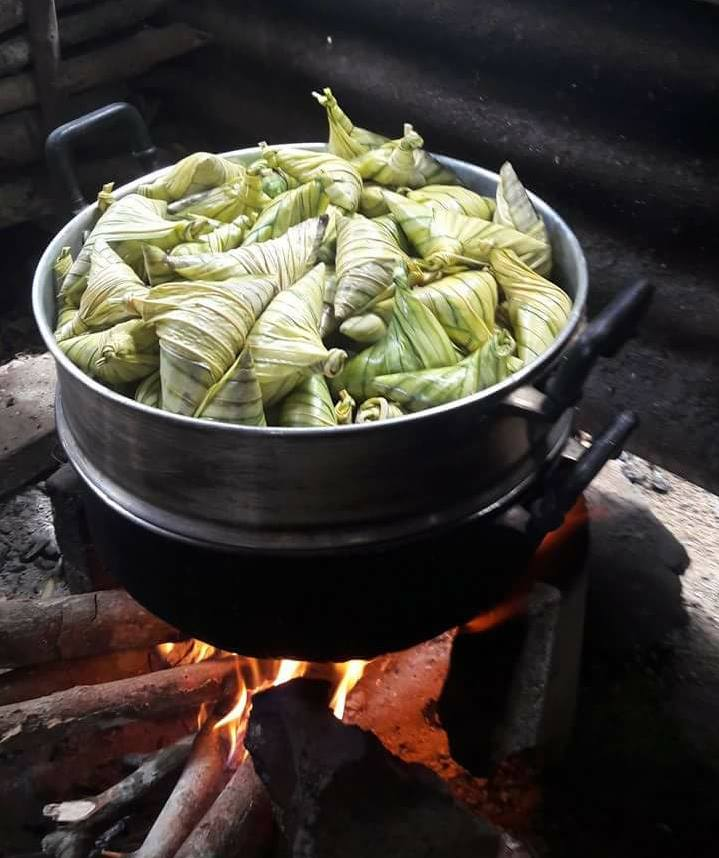kanomtom: (58, 131, 570, 436)
